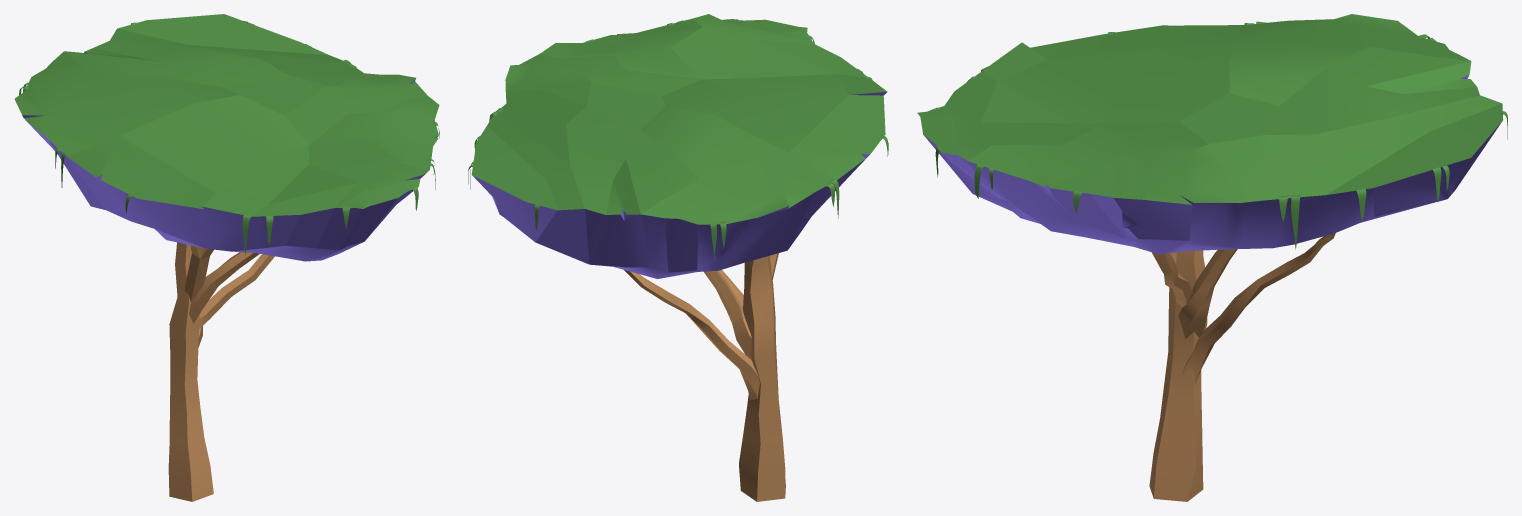
File: tree_F_canopy_A_solo.fbx
3 renders of one model, left to right at view 1: azimuth 30°, elevation 25°; view 2: azimuth 150°, elevation 25°; view 3: azimuth 270°, elevation 25°, orthographic. The views are drawn at different scales.
Parts seen in each view (by area): view 1: tree_F_canopy_A, tree_E_canopy_A_trunk_A, tree_E_canopy_A_trunk_E, tree_E_canopy_A_trunk_D, tree_E_canopy_A_trunk_G; view 2: tree_F_canopy_A, tree_E_canopy_A_trunk_A, tree_E_canopy_A_trunk_F, tree_E_canopy_A_trunk_C; view 3: tree_F_canopy_A, tree_E_canopy_A_trunk_A, tree_E_canopy_A_trunk_F, tree_E_canopy_A_trunk_C, tree_E_canopy_A_trunk_D.
Boxes of the visible parts, x1=… form: tree_F_canopy_A: x1=14, y1=14, x2=439, y2=261; tree_E_canopy_A_trunk_A: x1=168, y1=242, x2=213, y2=501; tree_E_canopy_A_trunk_E: x1=189, y1=252, x2=259, y2=323; tree_E_canopy_A_trunk_D: x1=199, y1=254, x2=274, y2=328; tree_E_canopy_A_trunk_G: x1=184, y1=245, x2=213, y2=301; tree_F_canopy_A: x1=471, y1=14, x2=887, y2=278; tree_E_canopy_A_trunk_A: x1=739, y1=256, x2=785, y2=501; tree_E_canopy_A_trunk_F: x1=624, y1=270, x2=759, y2=400; tree_E_canopy_A_trunk_C: x1=704, y1=270, x2=751, y2=360; tree_F_canopy_A: x1=917, y1=14, x2=1503, y2=254; tree_E_canopy_A_trunk_A: x1=1149, y1=250, x2=1207, y2=501; tree_E_canopy_A_trunk_F: x1=1182, y1=233, x2=1335, y2=384; tree_E_canopy_A_trunk_C: x1=1178, y1=249, x2=1237, y2=338; tree_E_canopy_A_trunk_D: x1=1158, y1=253, x2=1192, y2=306.
Bounding box in the file's own units: 534 × 561 × 676.
